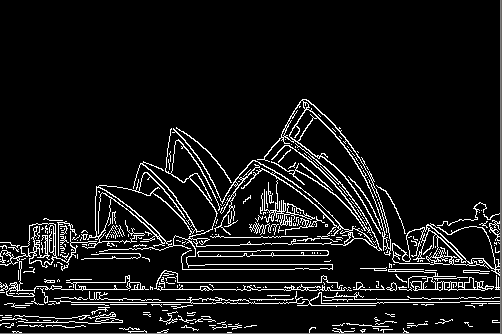opera house: (59, 114, 493, 290)
